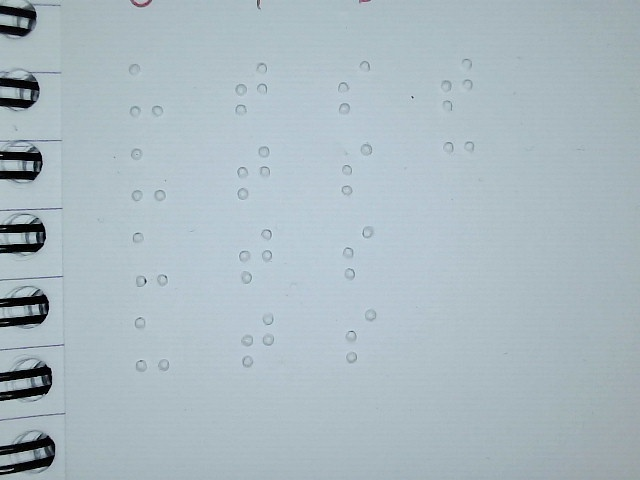S: (336, 58, 372, 115), (339, 140, 375, 197), (340, 223, 376, 280), (343, 306, 379, 363)
T: (236, 144, 272, 200), (238, 227, 274, 283), (240, 312, 276, 368), (233, 60, 269, 115)
U: (127, 62, 166, 118), (129, 146, 168, 202), (131, 230, 170, 286), (133, 315, 172, 371)
